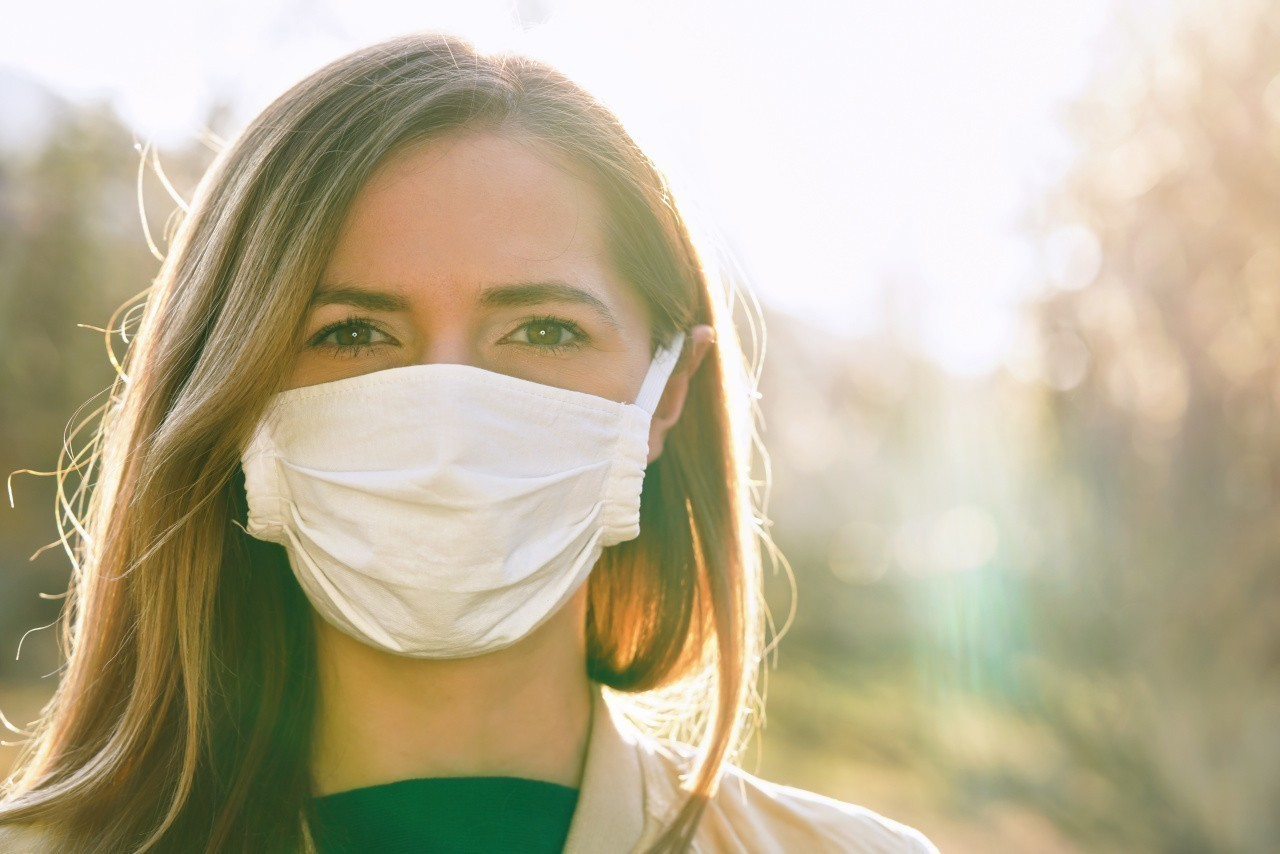with_mask: (257, 202, 651, 674)
